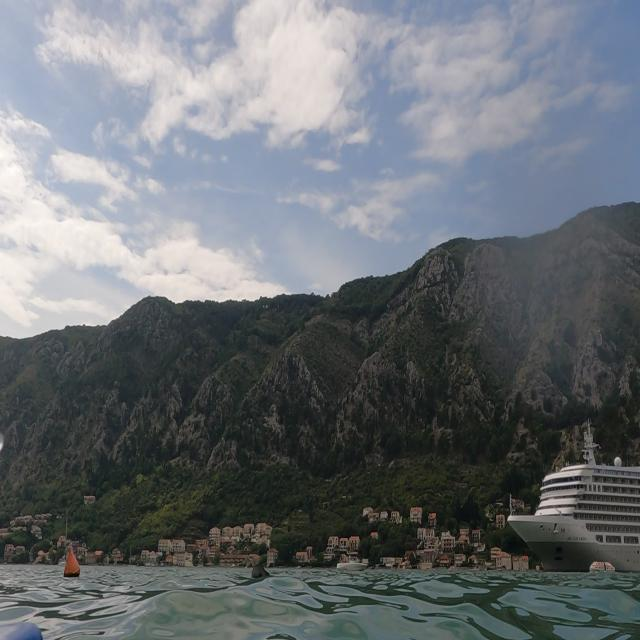boat: (506, 415, 638, 576)
buoy: (58, 536, 86, 586), (242, 555, 280, 591)
